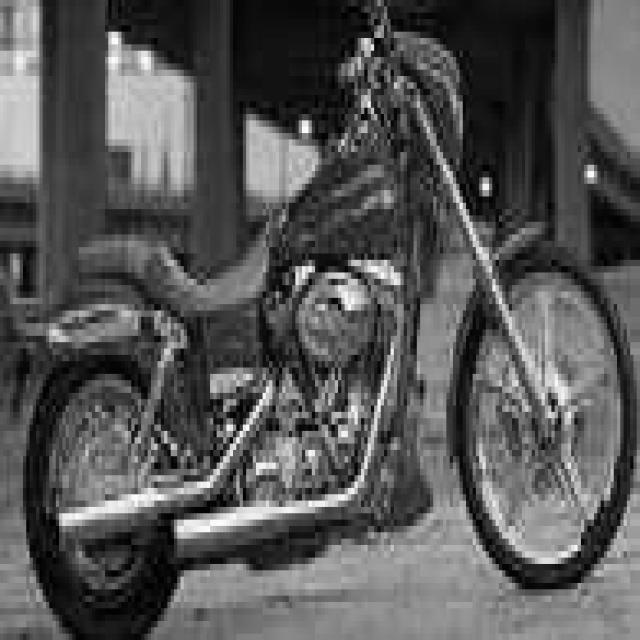Motorcycle: (3, 22, 636, 588)
